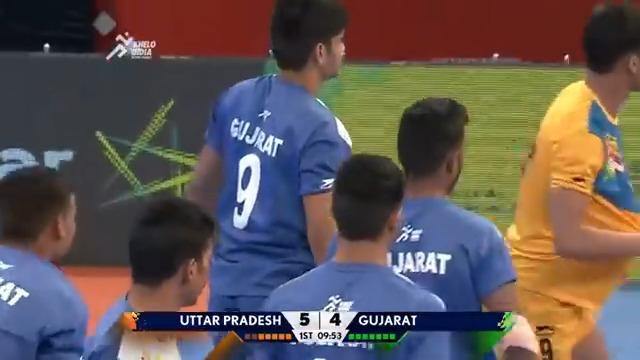Player: (182, 0, 353, 332), (504, 2, 639, 358), (384, 95, 542, 359), (257, 152, 449, 358), (88, 196, 217, 359), (0, 164, 89, 359)
